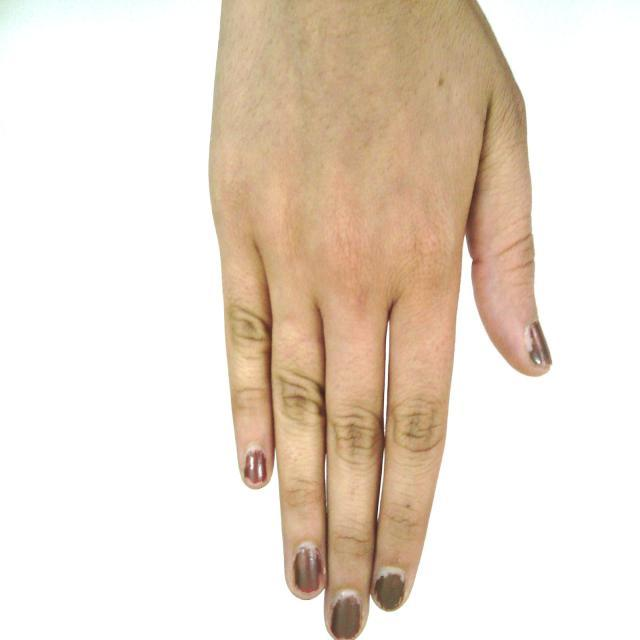Fingernail: (294, 545, 324, 593), (331, 595, 361, 639), (525, 320, 553, 367), (373, 569, 405, 610), (244, 449, 267, 486)
